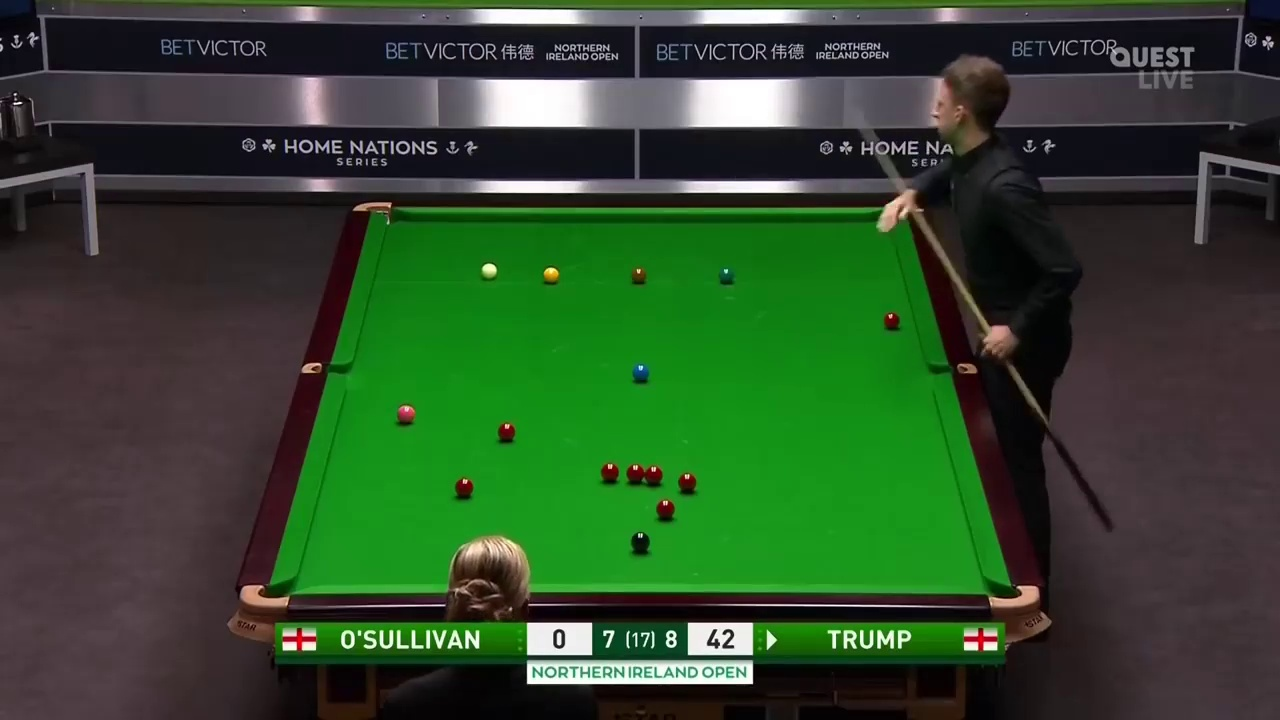black: (629, 534, 650, 553)
blue: (633, 362, 649, 381)
brown: (630, 264, 648, 285)
green: (717, 266, 734, 281)
pink: (394, 404, 417, 424)
red: (676, 471, 695, 493), (454, 478, 474, 498), (654, 499, 674, 519), (599, 463, 618, 484), (627, 466, 643, 487), (497, 422, 515, 440), (884, 309, 900, 328)
white: (483, 264, 498, 279)
yellow: (541, 268, 560, 281)
